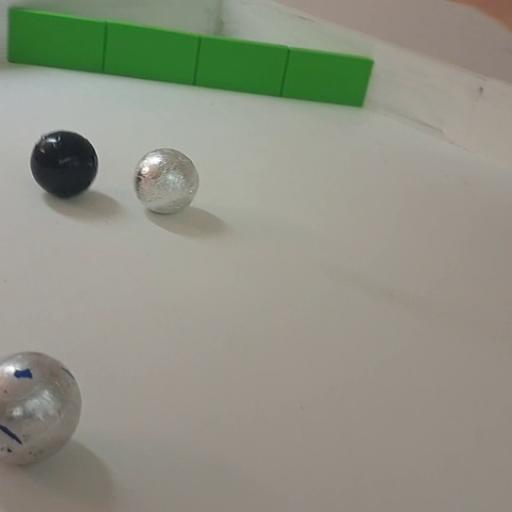alive: (0, 350, 84, 467), (132, 147, 200, 213)
dead: (29, 128, 101, 199)
